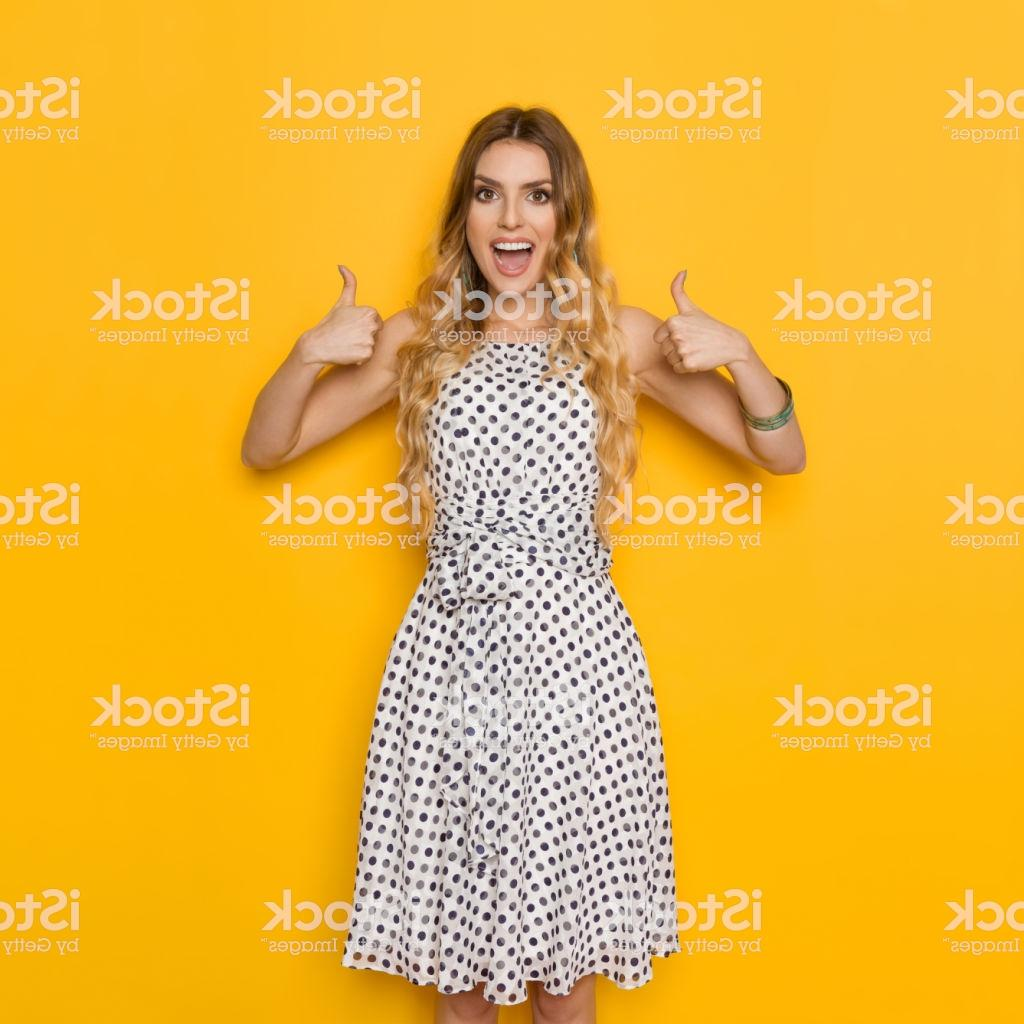thumbsup: (651, 268, 727, 375), (325, 263, 384, 370)
